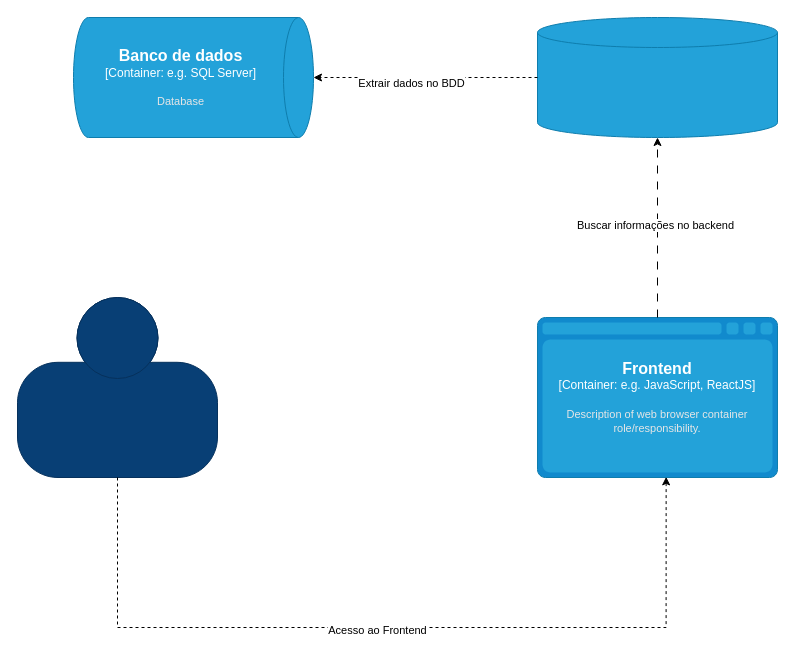
The diagram is 795 pixels wide and 654 high, and some of its shapes have lost their labels. Each missing label, with the box of its shape:
Backend [Container: e.g. C#] Backend API: (536, 16, 778, 138)
Usuário [Person] cadastrado no terrafacil erp: (16, 296, 218, 478)
